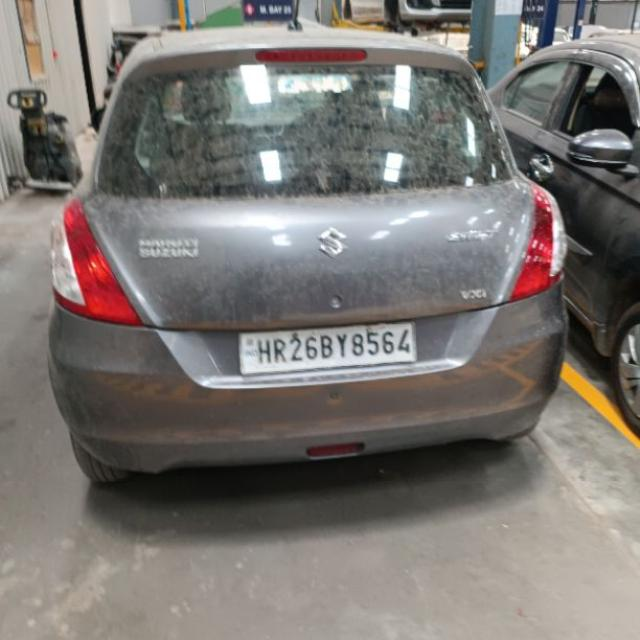license_plate: (237, 320, 418, 375)
